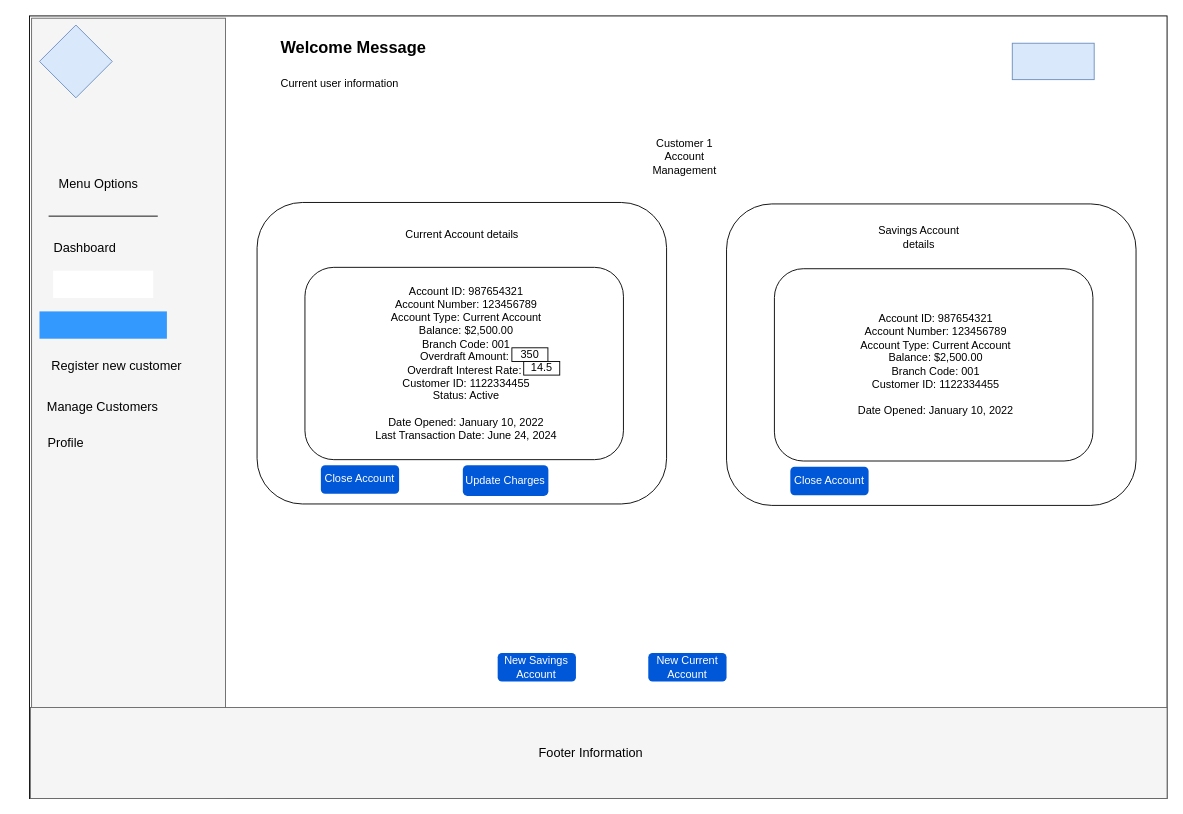
Some shapes in this 1183 by 814 pixel diagram are drawn without their labels. The box of each missing label's shape, as (x1, y1, x2, y2) in pixels:
LOGO: (39, 24, 112, 98)
Logout: (1011, 42, 1094, 80)
Manage Accounts: (39, 311, 166, 338)
Transactions: (53, 270, 153, 298)
